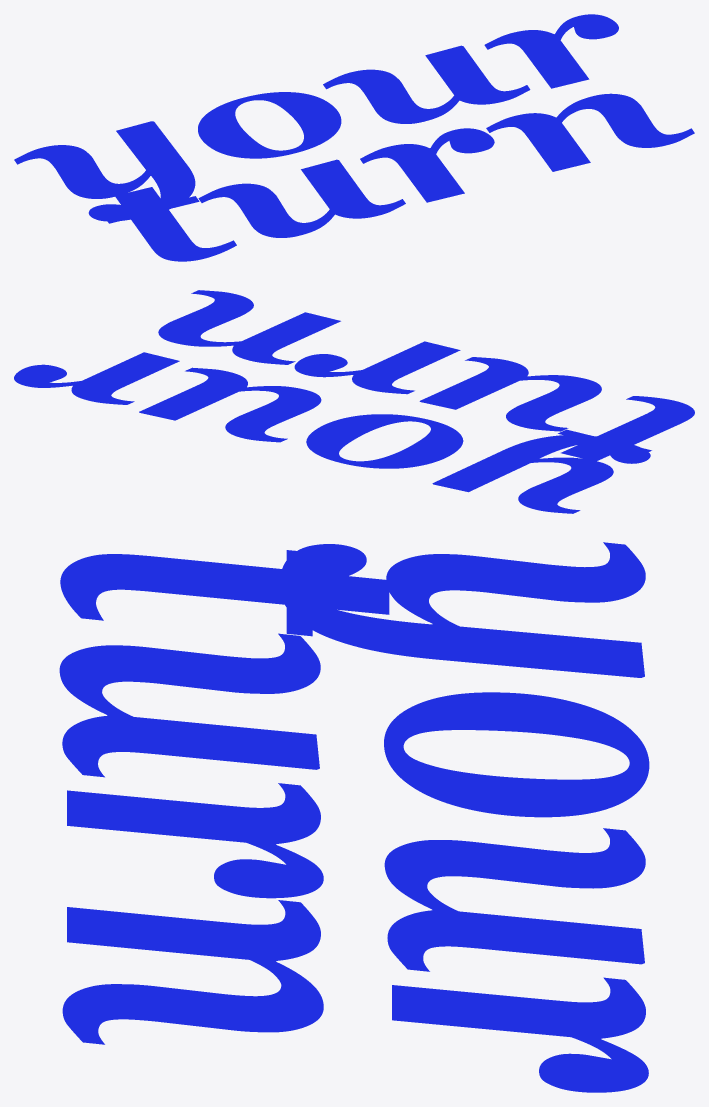
File: blueTurn.gltf
The picture shows the model from 3 angles, top to bottom: view 1: azimuth 30°, elevation 25°; view 2: azimuth 150°, elevation 25°; view 3: azimuth 270°, elevation 25°; orthographic projection. The views are drawn at different scales.
Visible parts, largest first — view 1: Red; view 2: Red; view 3: Red.
Part boxes in pixels (x1=…): Red: x1=14, y1=14, x2=694, y2=261; Red: x1=14, y1=290, x2=694, y2=513; Red: x1=59, y1=542, x2=649, y2=1092.
Bounding box in the file's own units: 5.12 × 0 × 2.32.
